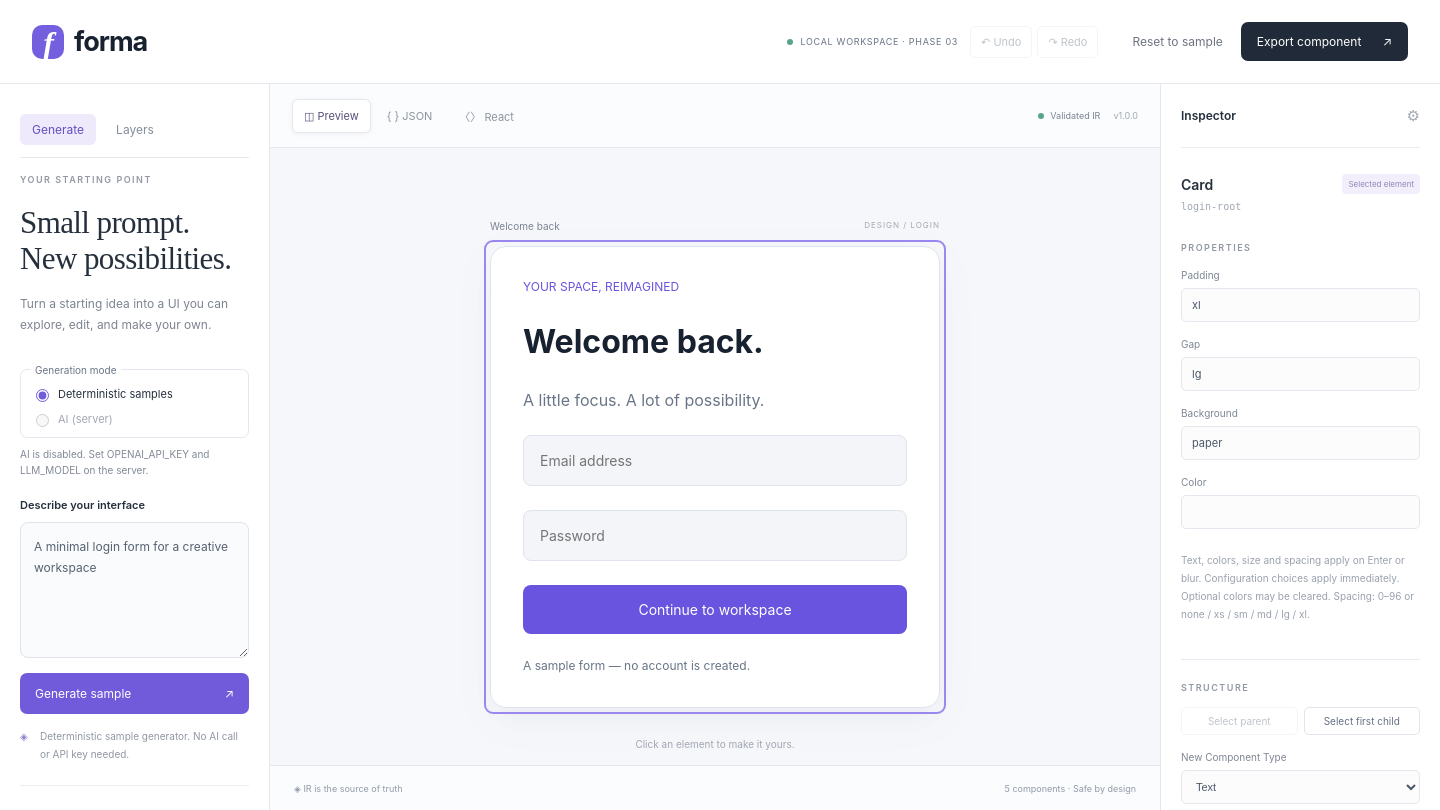
Test case: AI client integration › clearly labels modes and disables AI when capabilities are false while samples work
This screenshot has width=1440, height=810.
Expected: the text "AI is disabled" is shown, [20,448,210,476]
Expected: the radio button labelled "AI (server)" is disabled, [36,414,49,427]
Replace the text in the text box labelled "Describe your interface" with "pricing" at [134, 590], box [20,522,249,658]
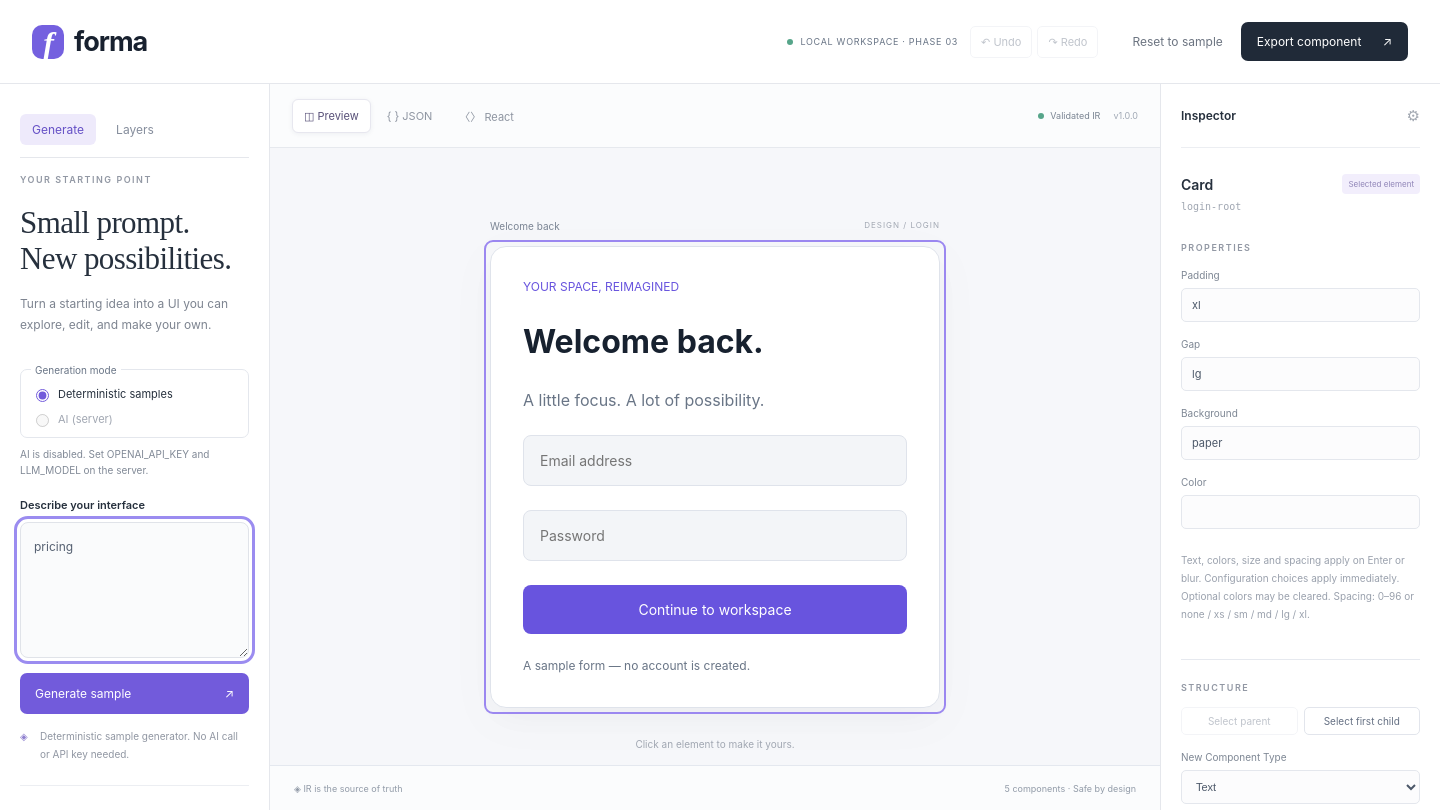
Click the button "Generate sample ↗".
click(134, 693)  # box [20,673,249,714]
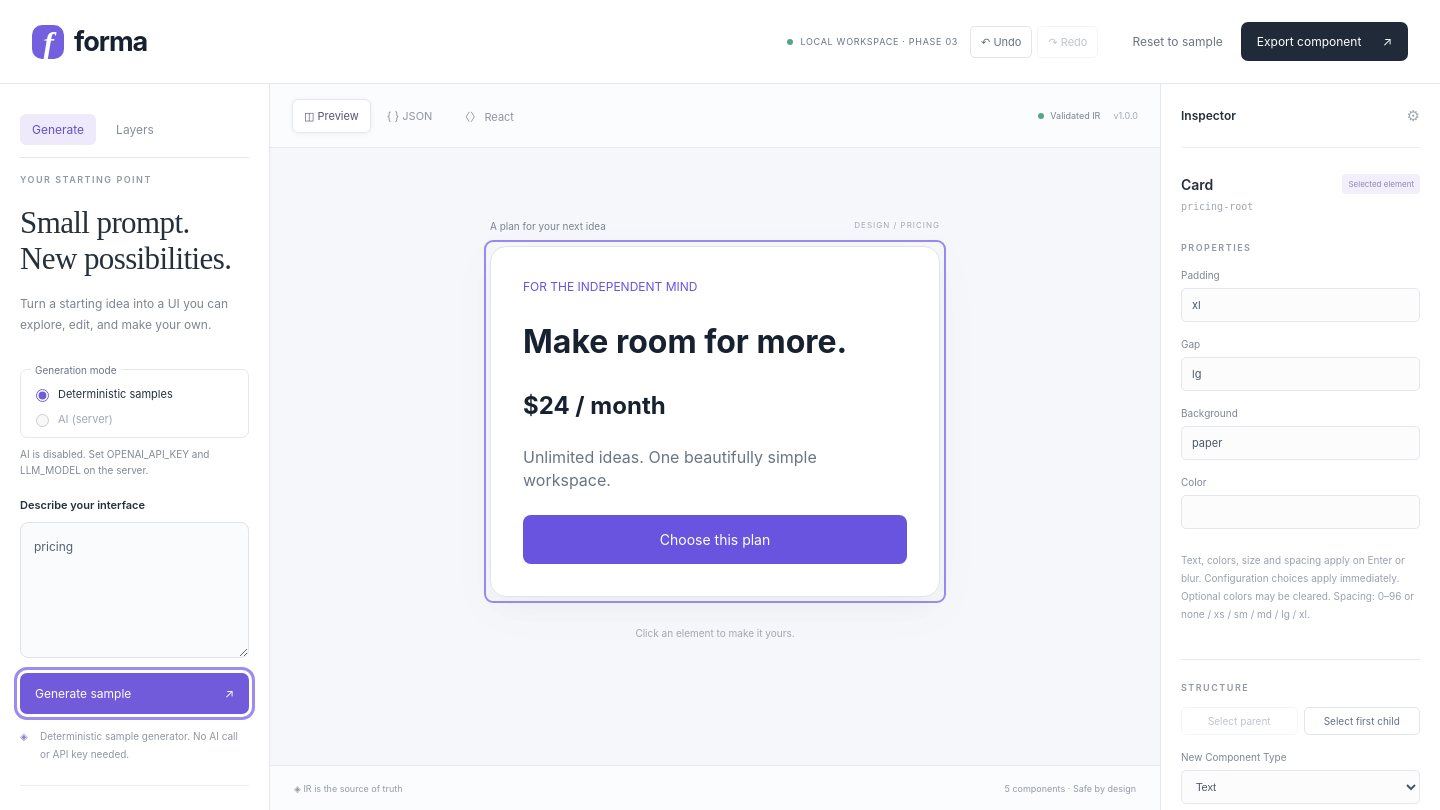
Result: the text "Make room for more." is shown at [523,322,847,361]
